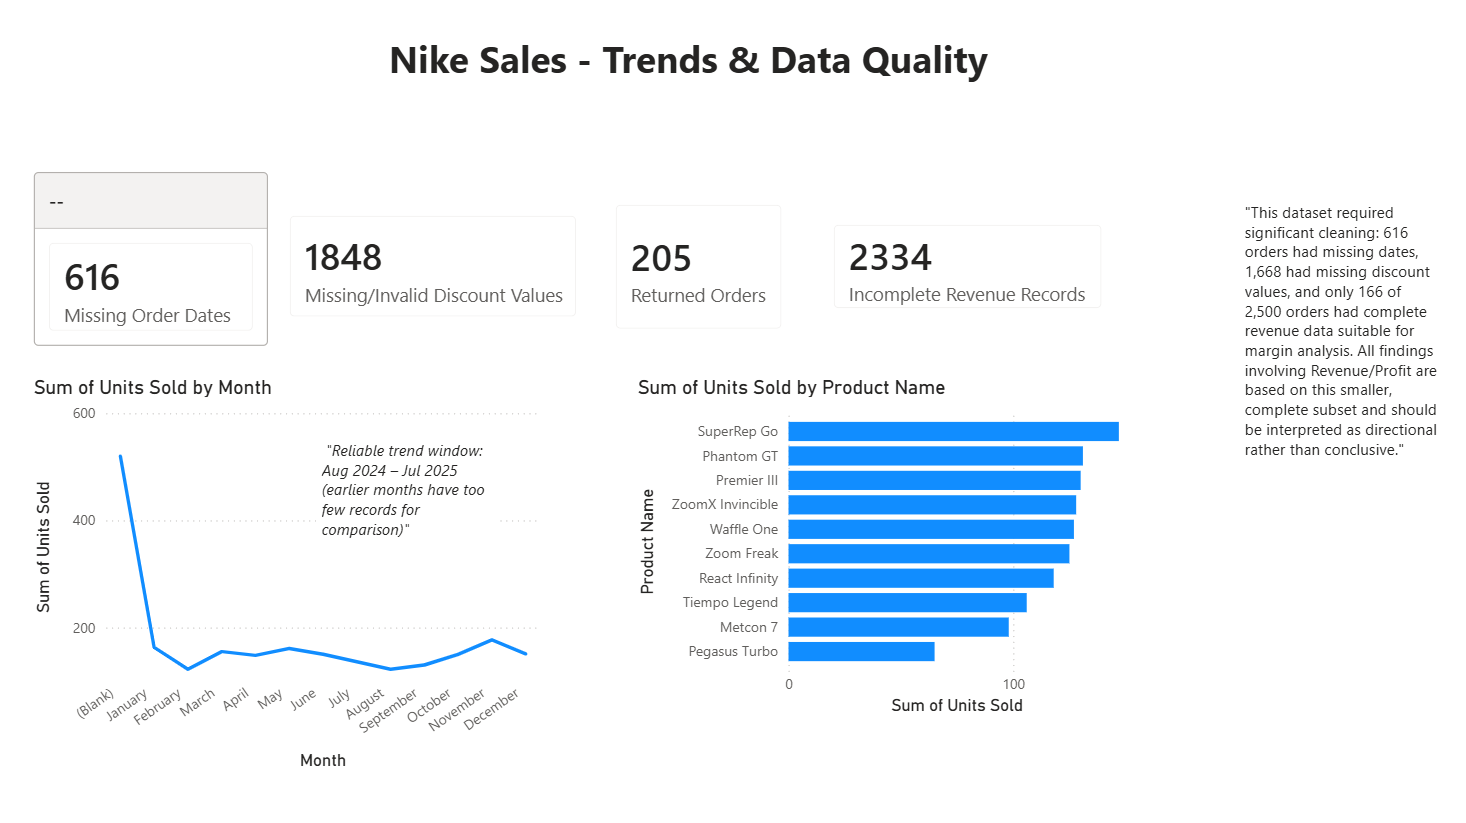

What the dashboard file says about the page in this screenshot:
{"tool":"powerbi","page":{"name":"Trends & Data Quality ","canvas":[1280,720],"ordinal":2},"visuals":[{"type":"lineChart","fields":{"Y":["Sum(nike_sales_db nike_sales_clean.Units_Sold)"],"Category":["nike_sales_db nike_sales_clean.Order_Date.Variation.Date Hierarchy.Month"]},"box":[36.2,331.2,445.9,345],"z":0},{"type":"textbox","box":[284.6,382.1,156.1,96.6],"z":1},{"type":"clusteredBarChart","fields":{"Category":["nike_sales_db nike_sales_clean.Product_Name"],"Y":["Sum(nike_sales_db nike_sales_clean.Units_Sold)"]},"box":[557.2,331.2,440.8,297.6],"z":2},{"type":"cardVisual","fields":{"Rows":["nike_sales_db nike_sales_clean.Order_Date"],"Data":["nike_sales_db nike_sales_clean.Missing Order Dates"]},"box":[36.2,131.1,212.2,200.1],"z":3},{"type":"cardVisual","fields":{"Data":["Sum(nike_sales_db nike_sales_clean.Is_Return)"]},"box":[526.1,167.3,177.7,141.5],"z":5},{"type":"textbox","box":[1080.8,176.8,176,253.6],"z":7},{"type":"cardVisual","fields":{"Data":["nike_sales_db nike_sales_clean.Incomplete Revenue Records"]},"box":[714.2,184.6,265.7,107],"z":8},{"type":"cardVisual","fields":{"Data":["nike_sales_db nike_sales_clean.Missing Discount Values"]},"box":[245,176.8,281.2,121.6],"z":9},{"type":"textbox","box":[342.4,31.1,549.4,88],"z":10}]}

Visuals, with their boxes in screenshot pixels (x1, y1, x2, y2), scaled from the page's 1280x720 canvas onto the 1466x823 screenshot:
lineChart - Sum(nike_sales_db nike_sales_clean.Units_Sold) x nike_sales_db nike_sales_clean.Order_Date.Variation.Date Hierarchy.Month: 41,379,552,773
textbox: 326,437,505,547
clusteredBarChart - nike_sales_db nike_sales_clean.Product_Name x Sum(nike_sales_db nike_sales_clean.Units_Sold): 638,379,1143,719
cardVisual - nike_sales_db nike_sales_clean.Order_Date x nike_sales_db nike_sales_clean.Missing Order Dates: 41,150,284,379
cardVisual - Sum(nike_sales_db nike_sales_clean.Is_Return): 603,191,806,353
textbox: 1238,202,1439,492
cardVisual - nike_sales_db nike_sales_clean.Incomplete Revenue Records: 818,211,1122,333
cardVisual - nike_sales_db nike_sales_clean.Missing Discount Values: 281,202,603,341
textbox: 392,36,1021,136
